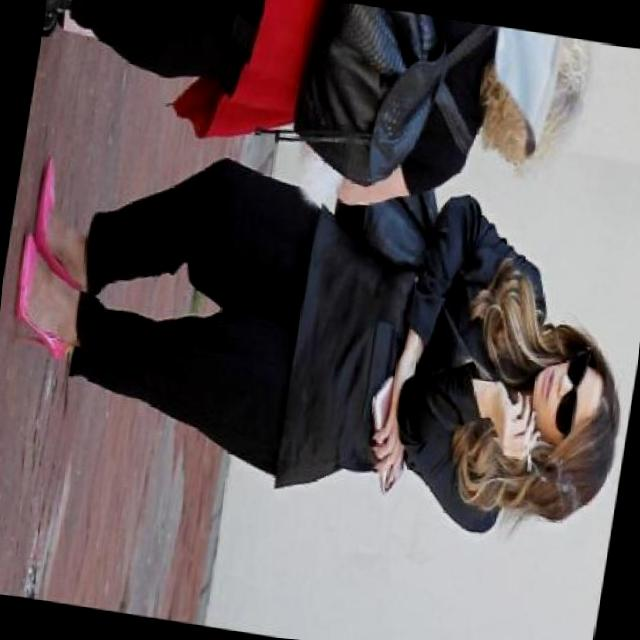smoke: (520, 429, 540, 473)
